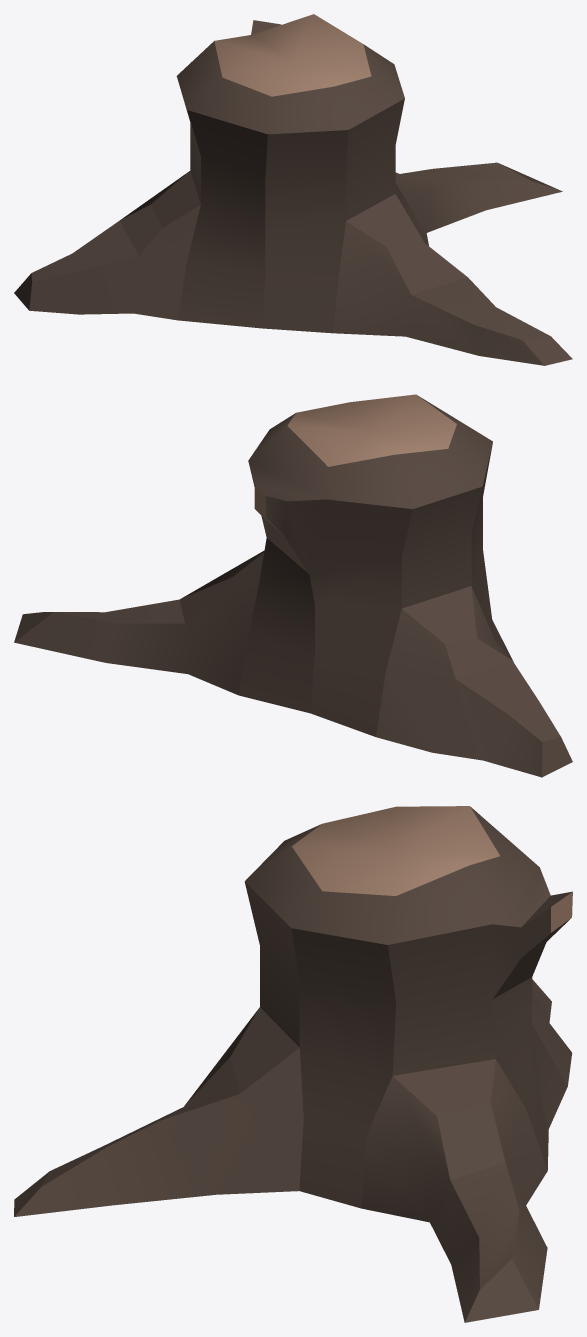
Rendered from DeadStub1.fbx.
The picture shows the model from 3 angles, top to bottom: view 1: azimuth 30°, elevation 25°; view 2: azimuth 150°, elevation 25°; view 3: azimuth 270°, elevation 25°; orthographic projection. The views are drawn at different scales.
Visible parts, largest first — view 1: pCylinder1; view 2: pCylinder1; view 3: pCylinder1.
Part boxes in pixels (x1=…): pCylinder1: x1=14, y1=14, x2=572, y2=365; pCylinder1: x1=14, y1=394, x2=572, y2=777; pCylinder1: x1=14, y1=806, x2=572, y2=1322.
Bounding box in the file's own units: 5.67 × 2.46 × 4.1.
